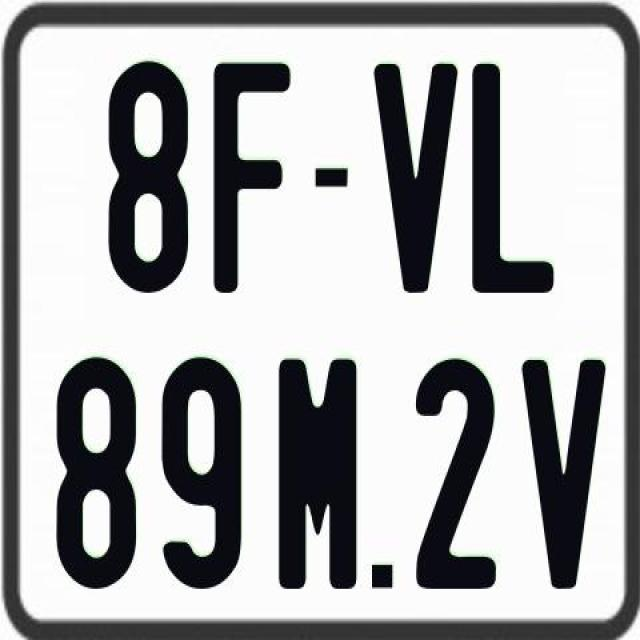2: (412, 356, 498, 591)
8: (108, 56, 196, 288), (52, 352, 138, 584)
9: (160, 355, 240, 597)
F: (212, 58, 294, 296)
L: (468, 61, 556, 291)
M: (277, 355, 363, 585)
V: (371, 63, 457, 300), (521, 358, 607, 592)
